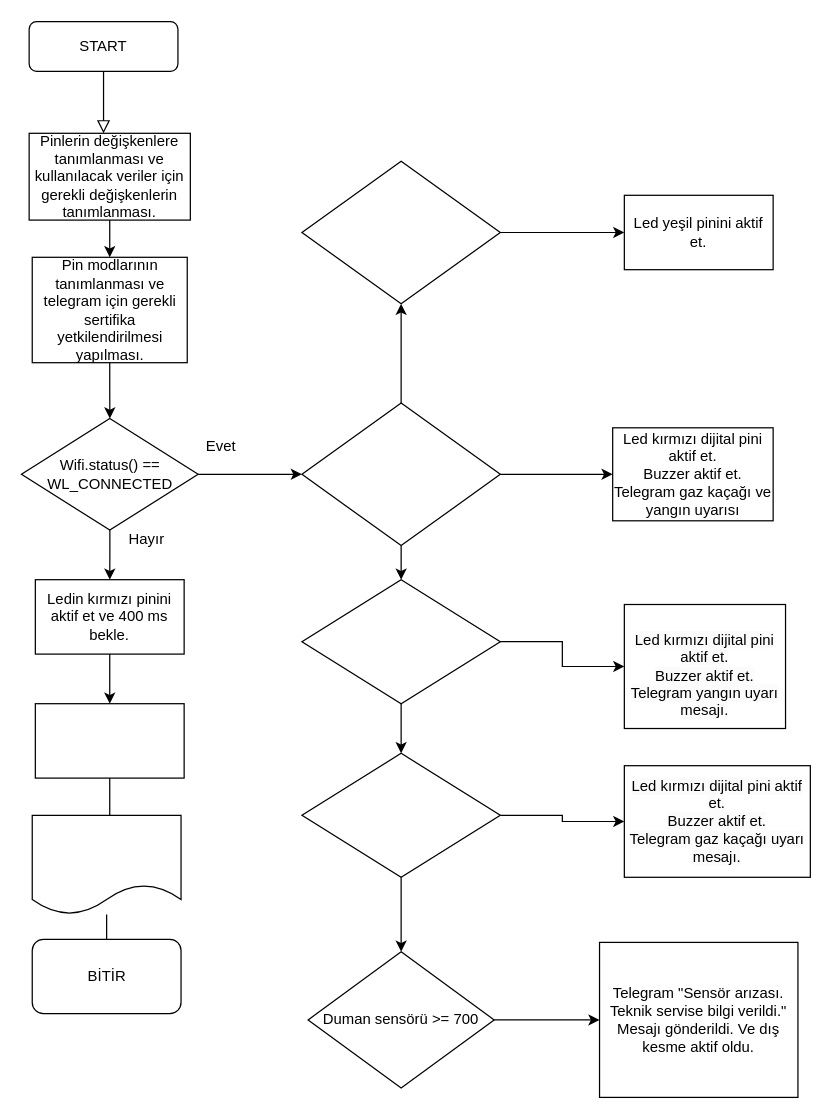
Image size: 833x1120. Some labels were removed from this diagram. Each missing label, with the centre of its shape:
"Duman sensörü < 285 && alev sensörü aktif" belongs at [400,641].
"Duman sensörü >= 285 && alev sensörü aktif" belongs at [400,474].
"Duman sensörü >= 285 && alev sensörü aktif değil" belongs at [400,814].
"Else" belongs at [400,232].
"Ledin kırmızı pinini lojik 0 yap ve 400 ms bekle." belongs at [109,740].
"No Connection !" belongs at [106,864].
